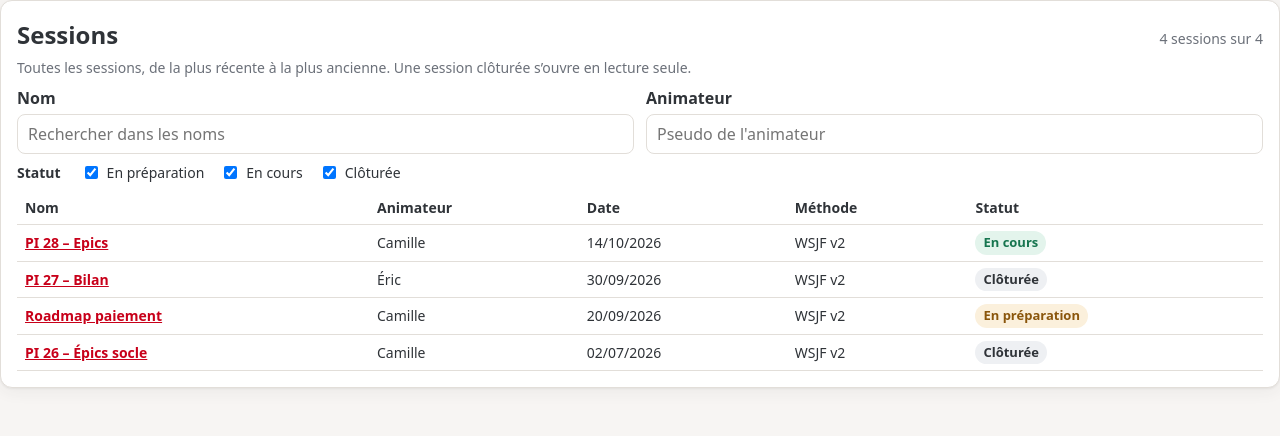
Test: SessionListComponent › filters (FR-026b) › refuses an unknown facilitator on leaving the field even when its value did not change
Type "Marc" into the field with id "filter-facilitator" at (954, 134), box [646,114,1263,154]
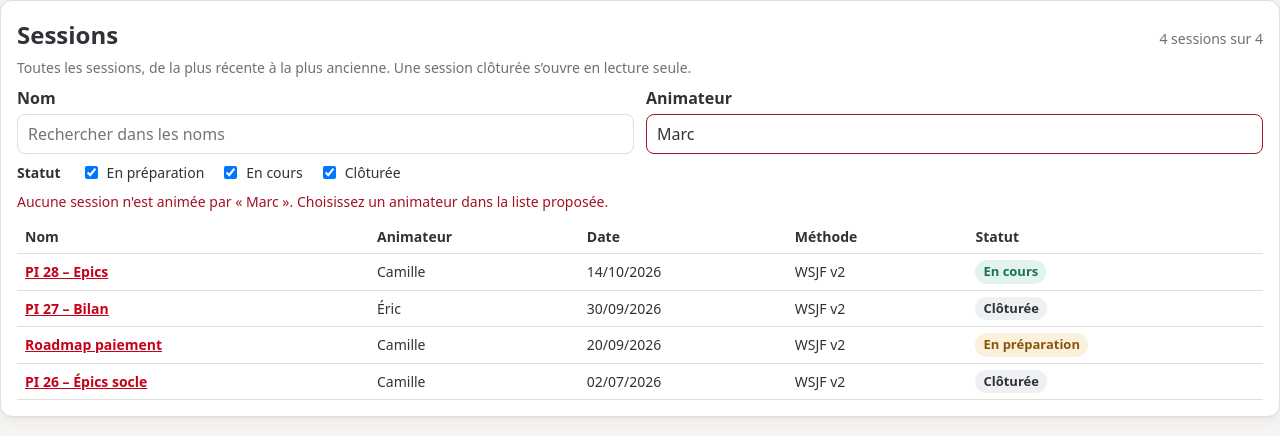
Replace the text in the field with id "filter-facilitator" with "Mar" at (954, 134), box [646,114,1263,154]
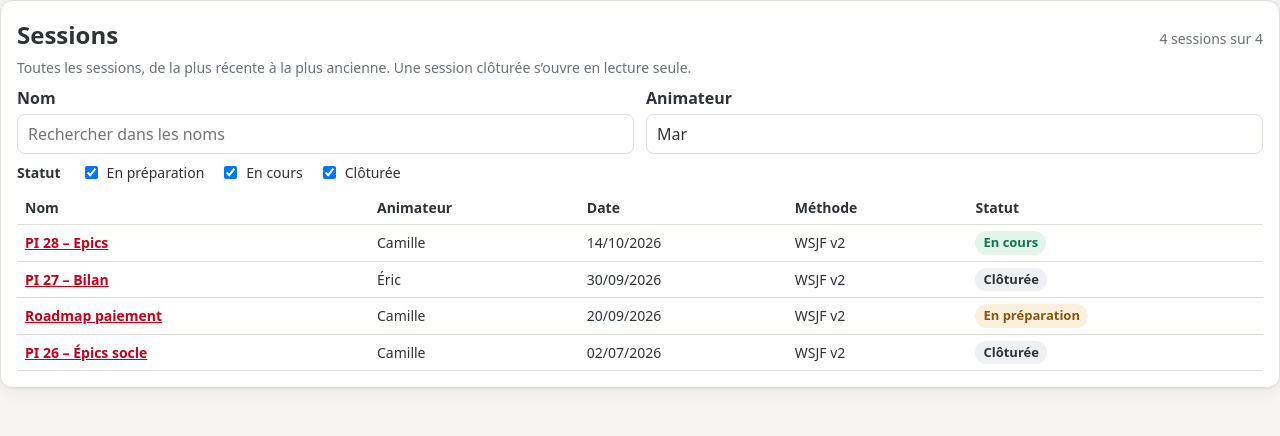
Replace the text in the field with id "filter-facilitator" with "Marc" at (954, 134), box [646,114,1263,154]
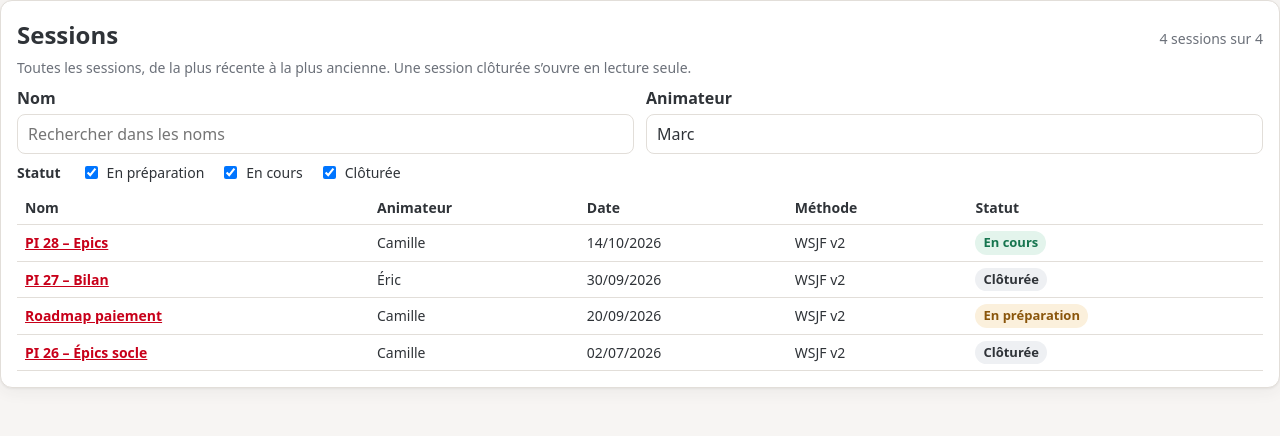
Leave the field with id "filter-facilitator", box [646,114,1263,154]
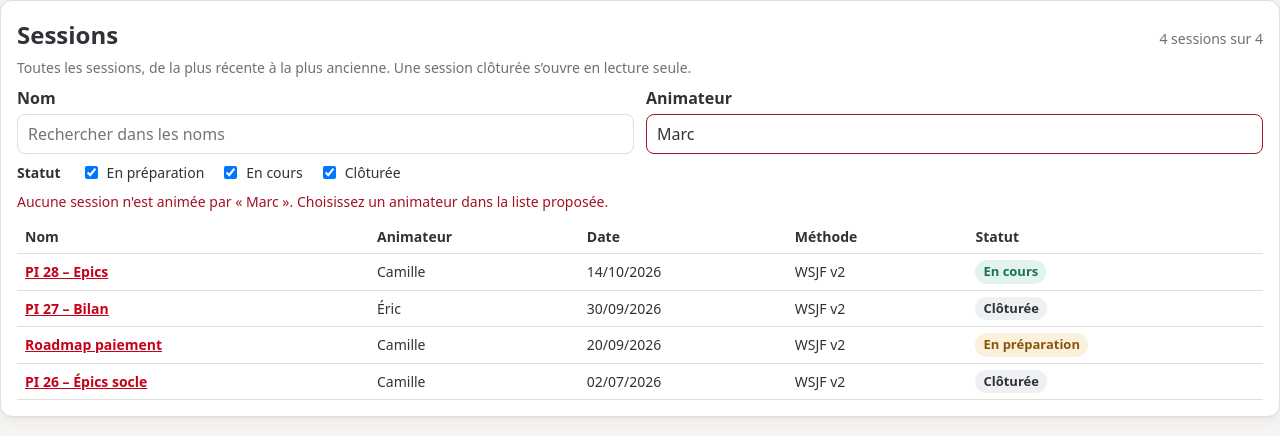
Expected: the number of links is 4, [25,262,108,281]; [25,299,109,318]; [25,335,162,354]; [25,372,147,391]
Result: the message with id "filter-facilitator-error" is shown at [17,192,608,211]
